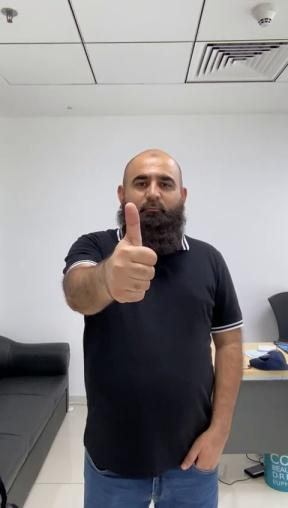thumbs-up: (103, 202, 160, 305)
